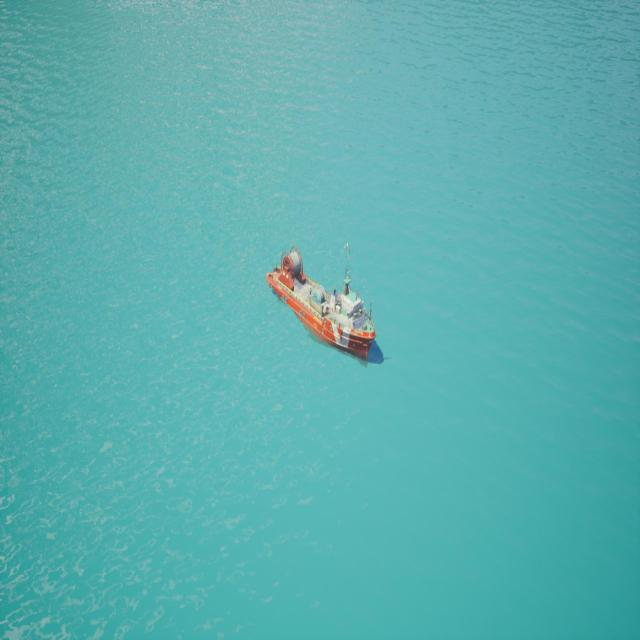tug boat: (258, 218, 400, 391)
